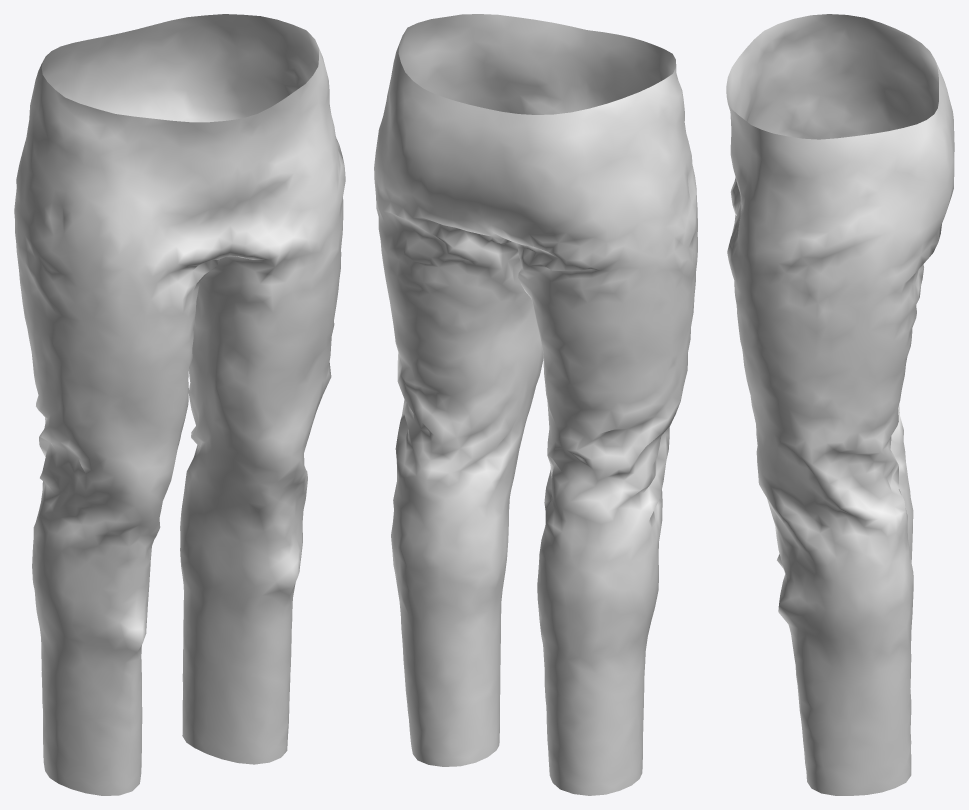
The model's file is Pants.fbx.
3 renders of one model, left to right at view 1: azimuth 30°, elevation 25°; view 2: azimuth 150°, elevation 25°; view 3: azimuth 270°, elevation 25°, orthographic. The views are drawn at different scales.
Visible parts, largest first — view 1: Pants; view 2: Pants; view 3: Pants.
Part boxes in pixels (bbox=[...]): Pants: bbox=[14, 14, 345, 795]; Pants: bbox=[374, 14, 697, 795]; Pants: bbox=[726, 14, 954, 795].
Size of the model in its own units: 384 by 869 by 267.
